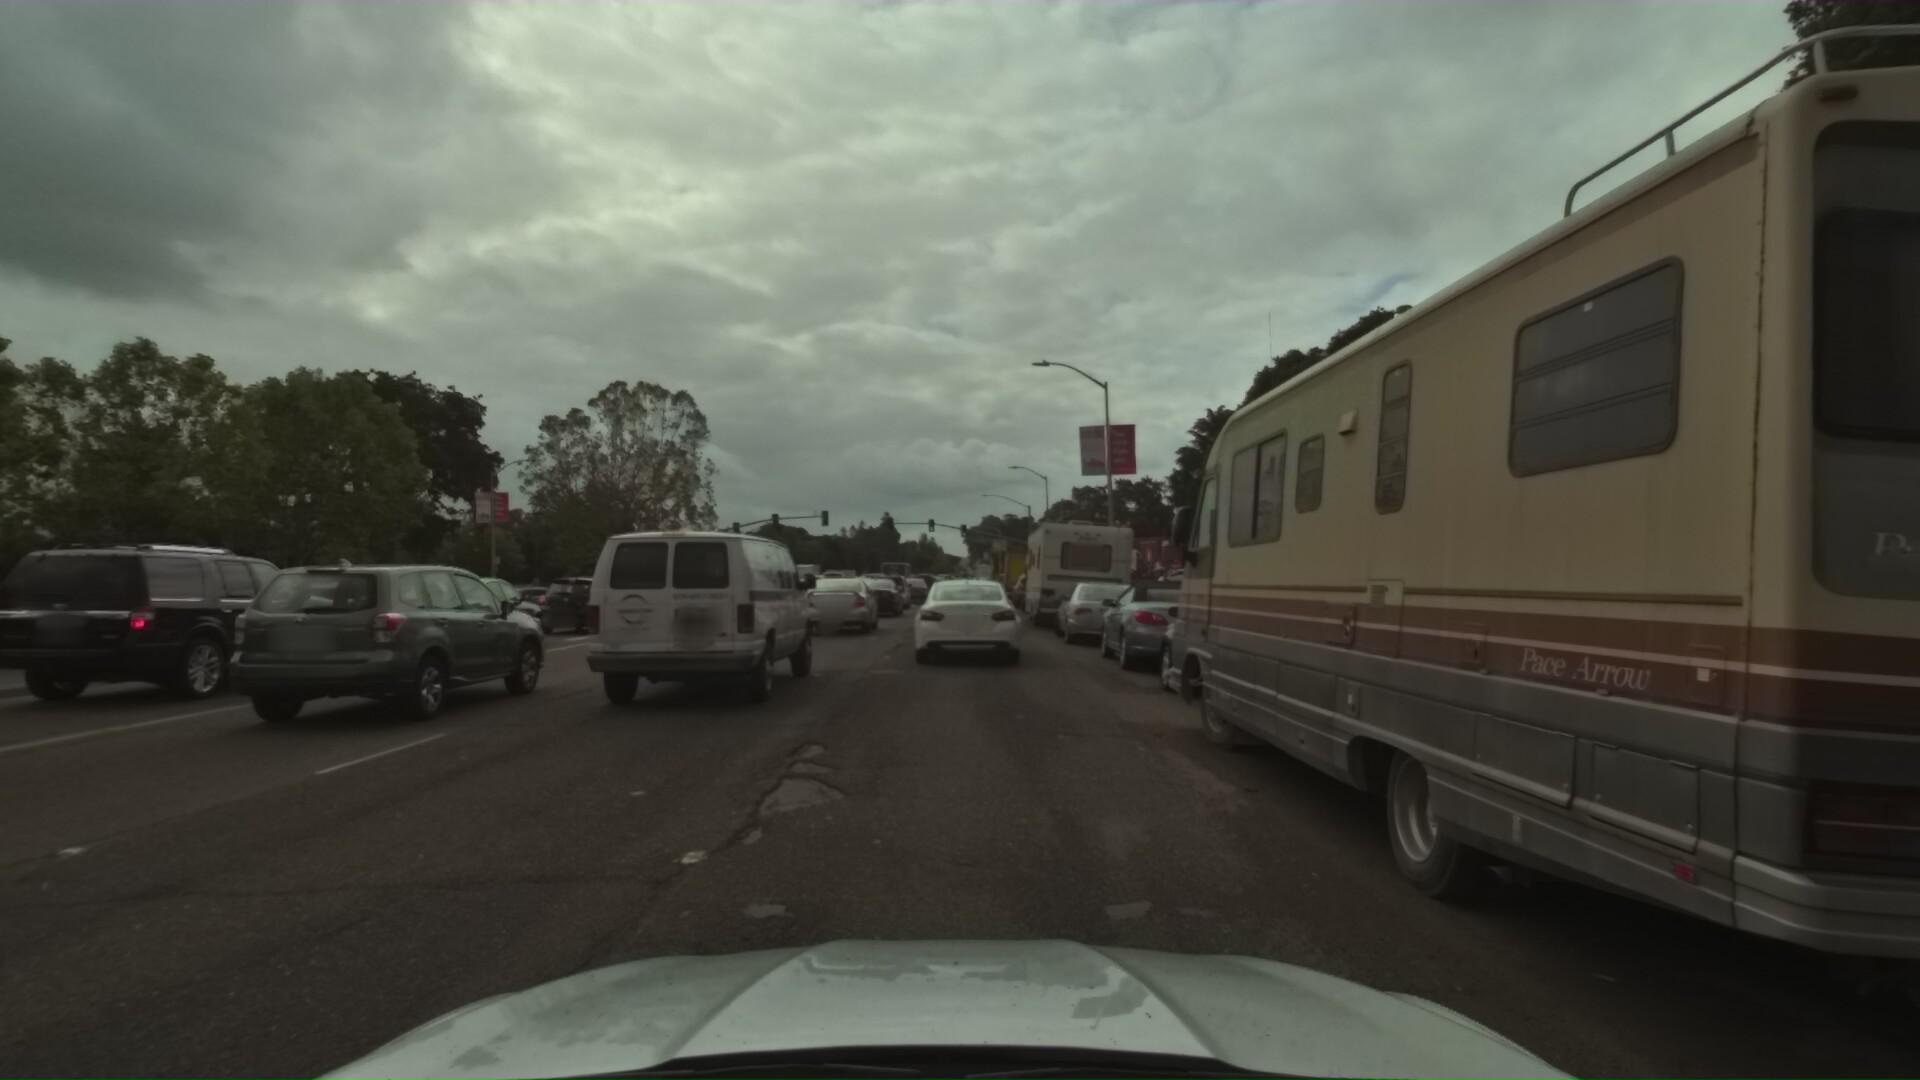car: (204, 550, 562, 737), (582, 516, 822, 716), (1153, 564, 1385, 723), (359, 567, 558, 658), (1095, 576, 1247, 687), (913, 574, 1022, 673), (1055, 574, 1156, 654), (530, 568, 647, 633), (920, 560, 1004, 636), (795, 570, 880, 637), (845, 574, 901, 616), (774, 578, 829, 615), (1009, 564, 1054, 605), (866, 568, 911, 607), (729, 571, 779, 604), (895, 574, 930, 603), (815, 564, 851, 592), (989, 568, 1033, 591), (907, 568, 934, 593), (855, 568, 884, 591)
other_vehicle: (1021, 504, 1146, 632)
truck: (998, 541, 1056, 603), (822, 563, 858, 589)
